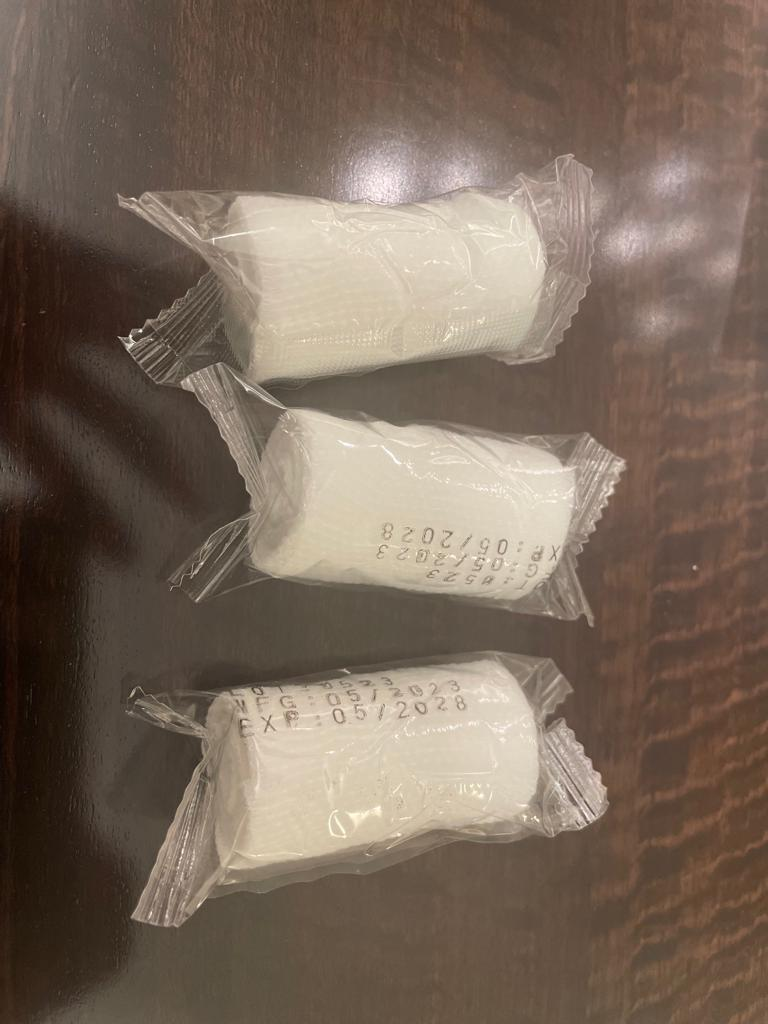other: (92, 627, 652, 923), (171, 388, 649, 652), (158, 141, 590, 376)
